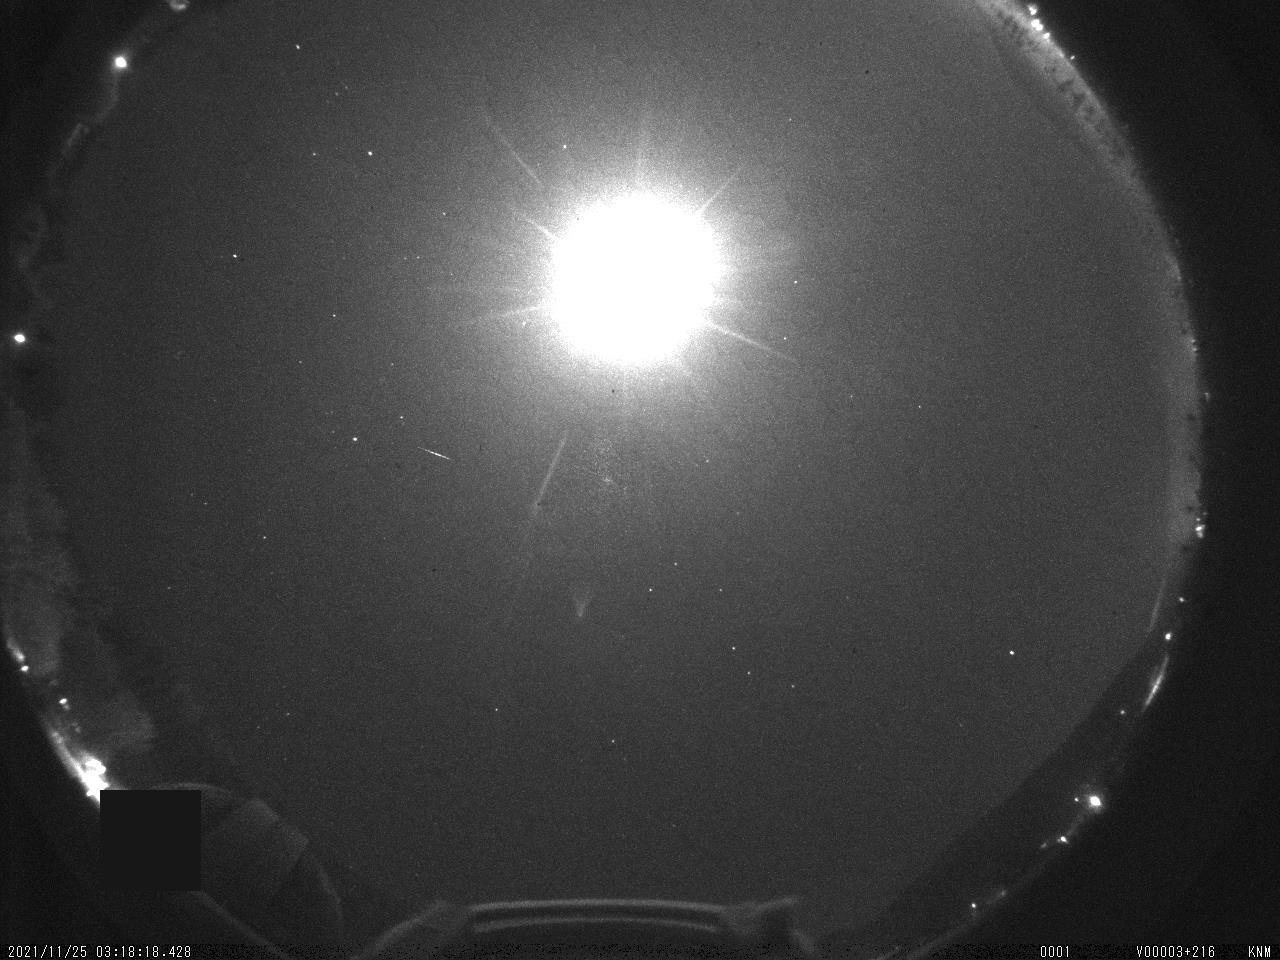meteor: (408, 435, 463, 471)
